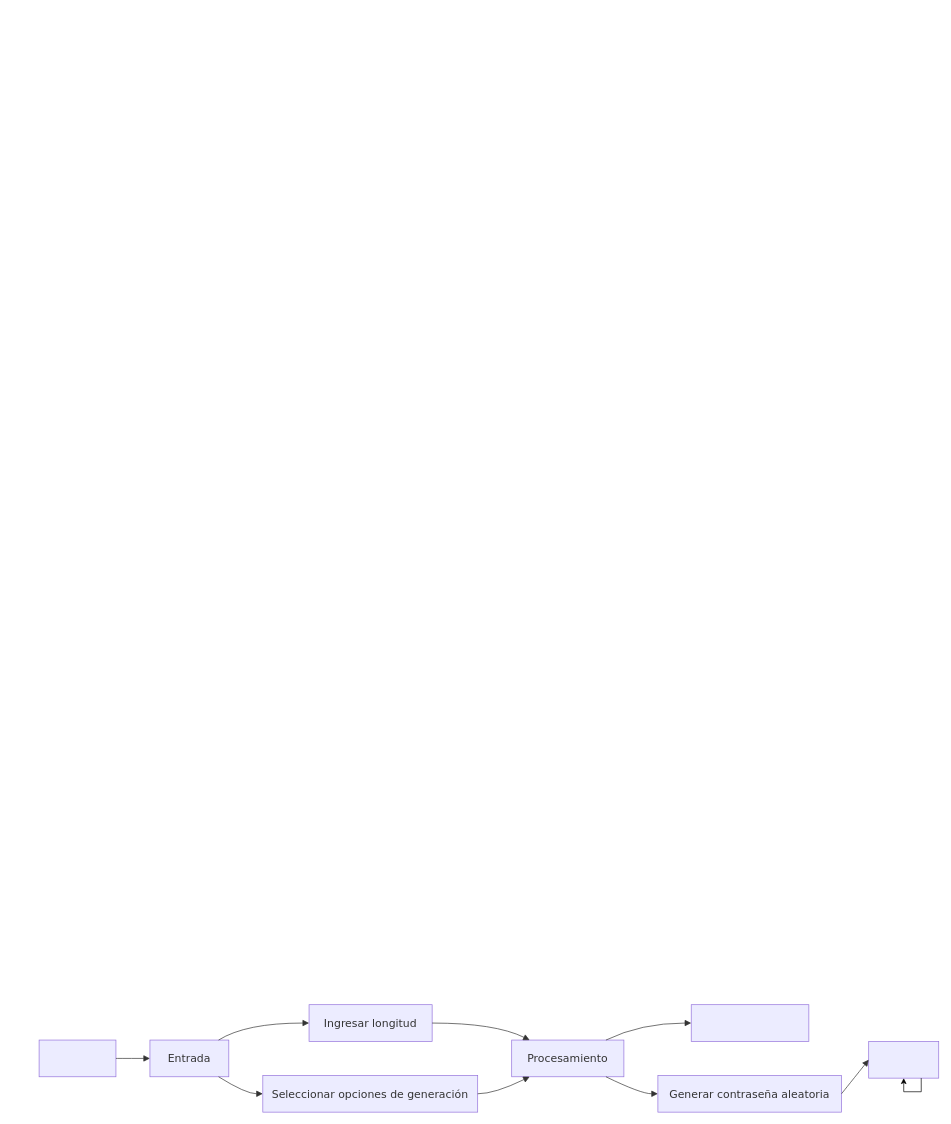
Some shapes in this 951 by 1124 pixel diagram are drawn without their labels. The centre of each missing label's shape, as x and y in pixels:
"Salida" goes at point (903, 1059).
"Usuario" goes at point (77, 1058).
"Validar longitud" goes at point (750, 1022).
